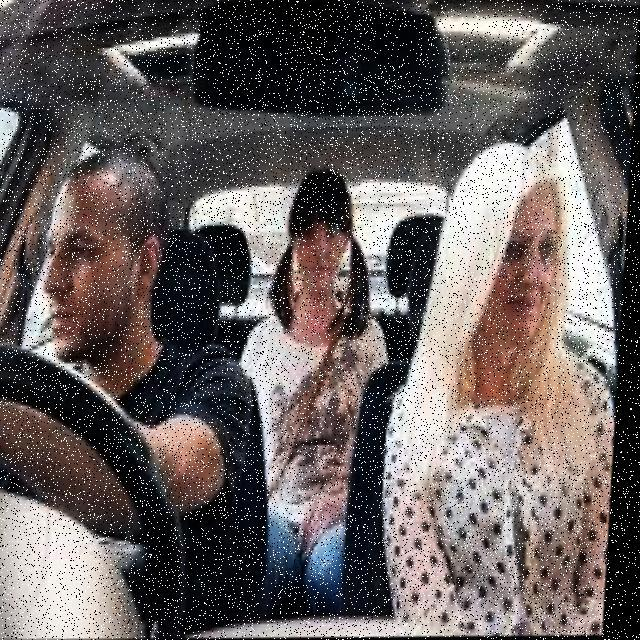noSeatbelt: (372, 328, 624, 634)
